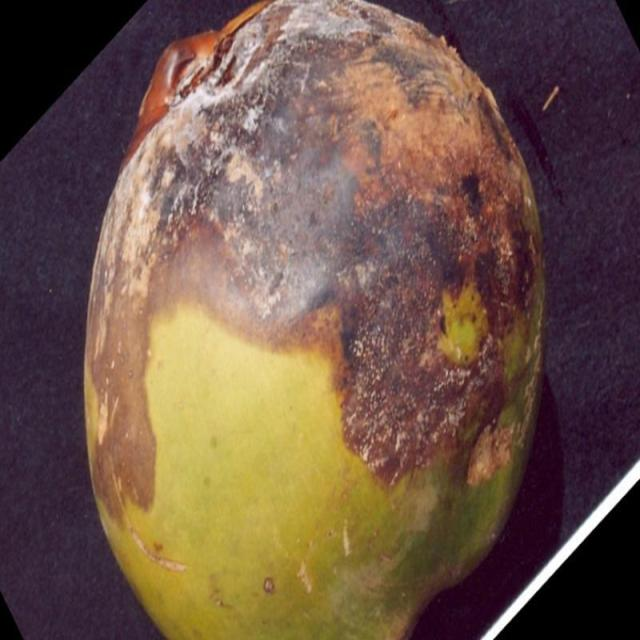damaged: (82, 0, 548, 639)
